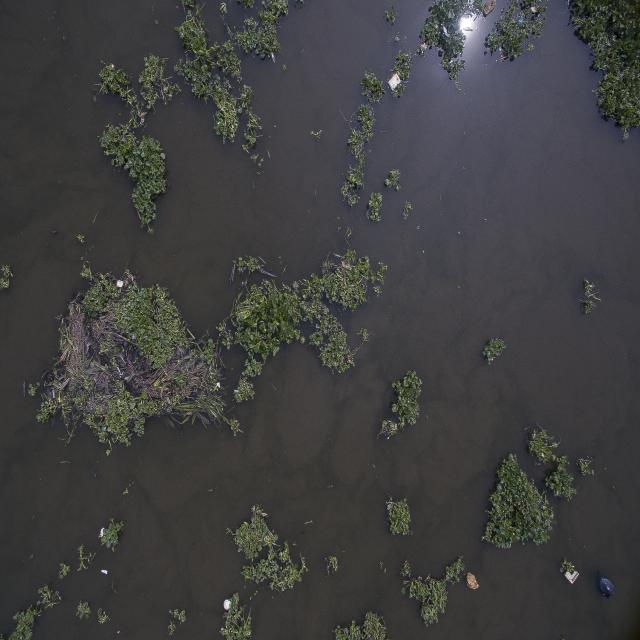debris: (561, 564, 580, 587), (222, 596, 234, 612), (388, 74, 400, 90), (96, 526, 107, 538), (115, 279, 125, 289), (215, 378, 222, 390), (100, 568, 109, 577), (442, 25, 448, 37), (437, 47, 443, 58)
plastic: (595, 568, 616, 596), (269, 49, 277, 66), (49, 386, 58, 400), (530, 4, 540, 14), (92, 472, 100, 482), (497, 42, 503, 54)
